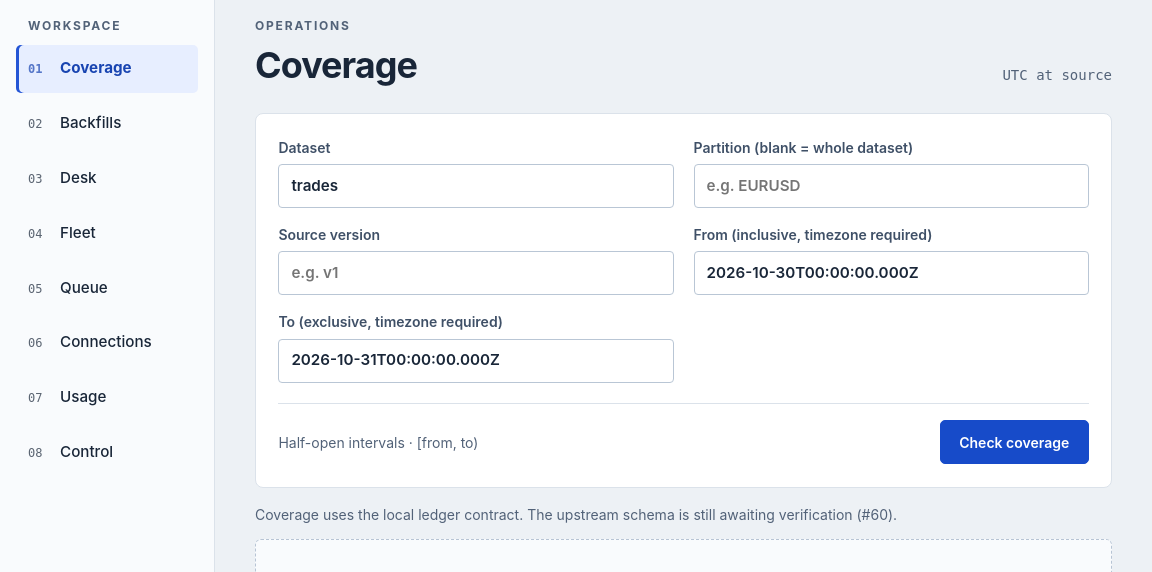
Test: reports a non-zero exit rather than showing success
The image size is (1152, 572).
Click the button "08 Control". click: (107, 452)
box: [16,428,198,476]
(page scrolled)
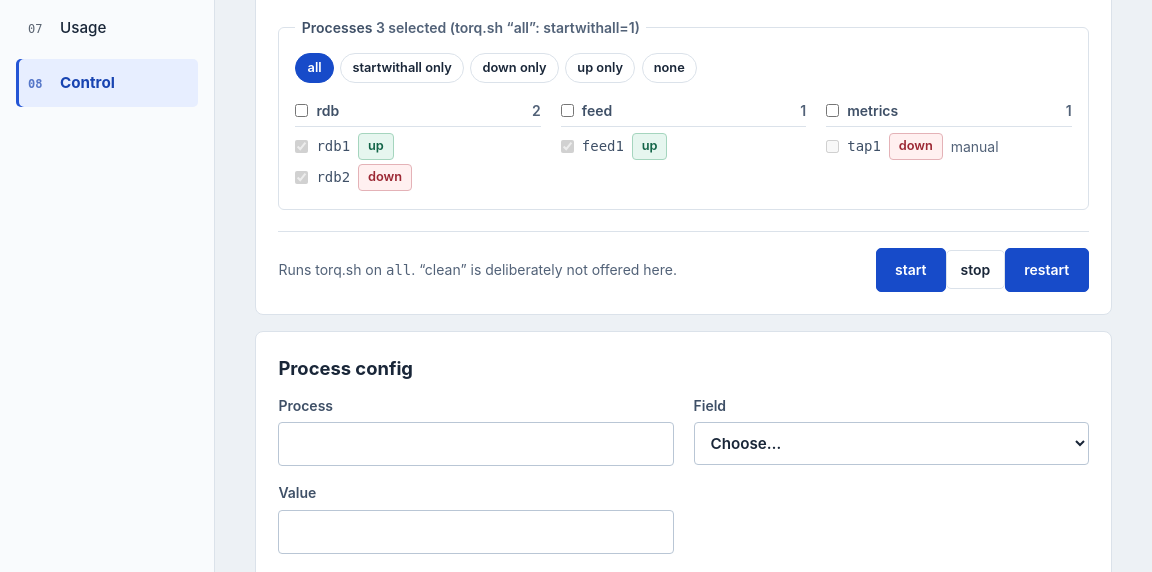
Click the button "start". click: (911, 270)
box: [876,248,946,292]
(page scrolled)
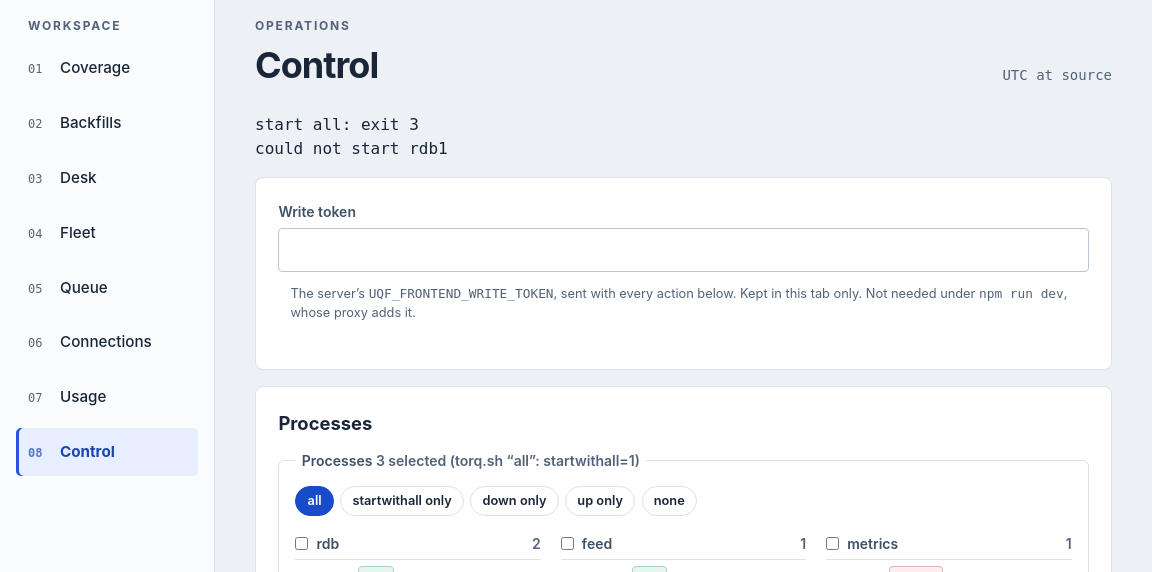
Expected: the text "start all: exit 3 could not start rdb1" is shown, [255,115,448,158]
